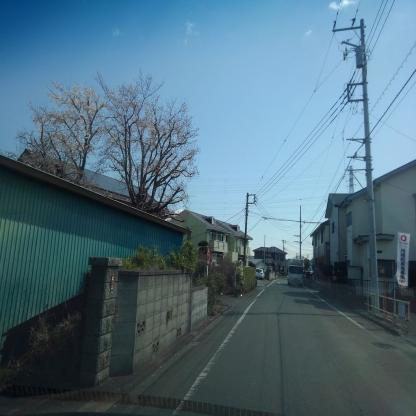Someiyoshino: (42, 81, 105, 187)
